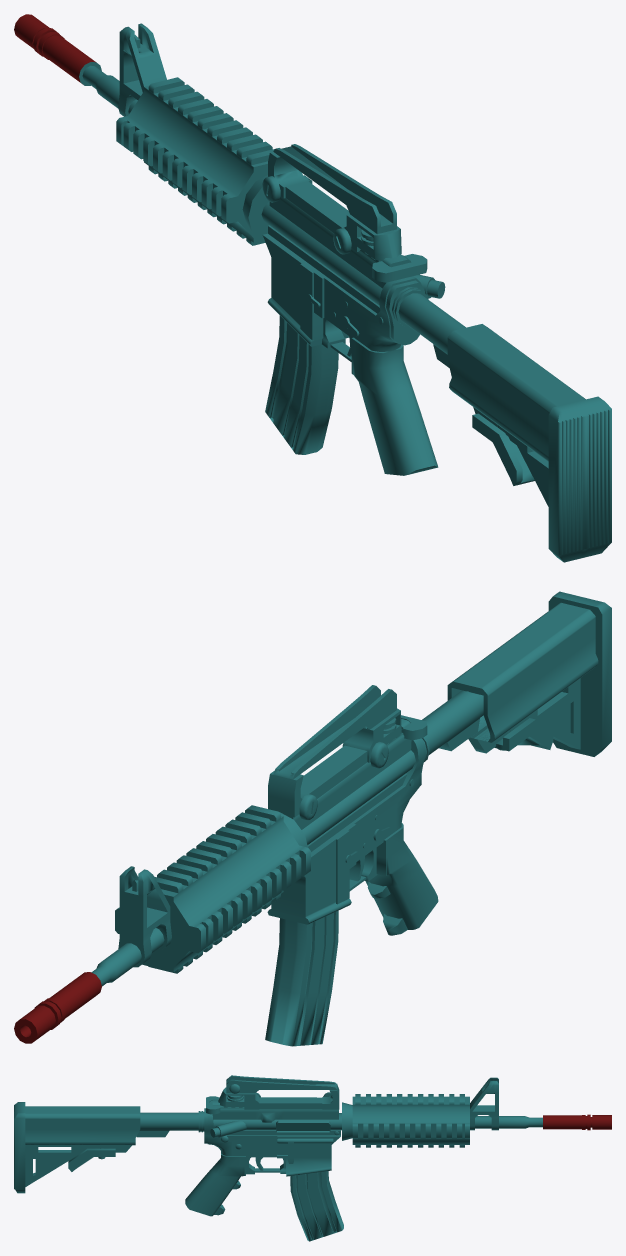
File: furkanm4 (1).fbx
3 views of the same model, one above another, from view 1: azimuth 30°, elevation 25°; view 2: azimuth 150°, elevation 25°; view 3: azimuth 270°, elevation 25° (orthographic). The views are drawn at different scales.
Parts seen in each view (by area): view 1: M4A1_Sopmod_Body; view 2: M4A1_Sopmod_Body; view 3: M4A1_Sopmod_Body.
Boxes of the visible parts, x1=… form: M4A1_Sopmod_Body: x1=14, y1=14, x2=611, y2=562; M4A1_Sopmod_Body: x1=14, y1=591, x2=611, y2=1046; M4A1_Sopmod_Body: x1=14, y1=1075, x2=611, y2=1241.
Bounding box in the file's own units: 0.00794 × 0.0253 × 0.0854.
